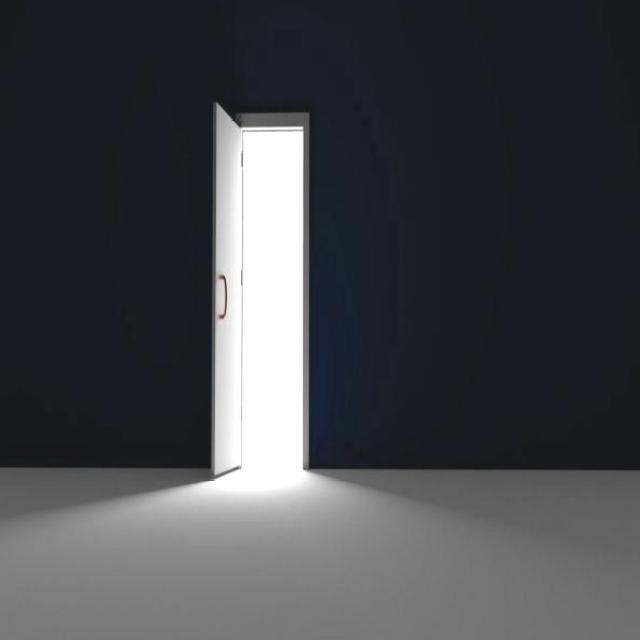door: (210, 101, 245, 480)
